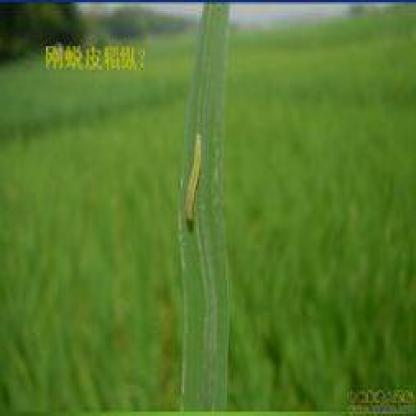leaf-folder: (180, 118, 210, 232)
